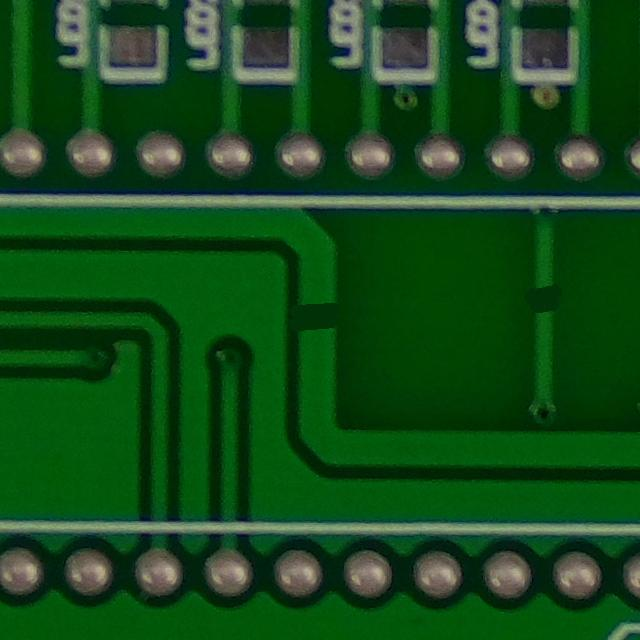open_circuit: (290, 288, 351, 352)
